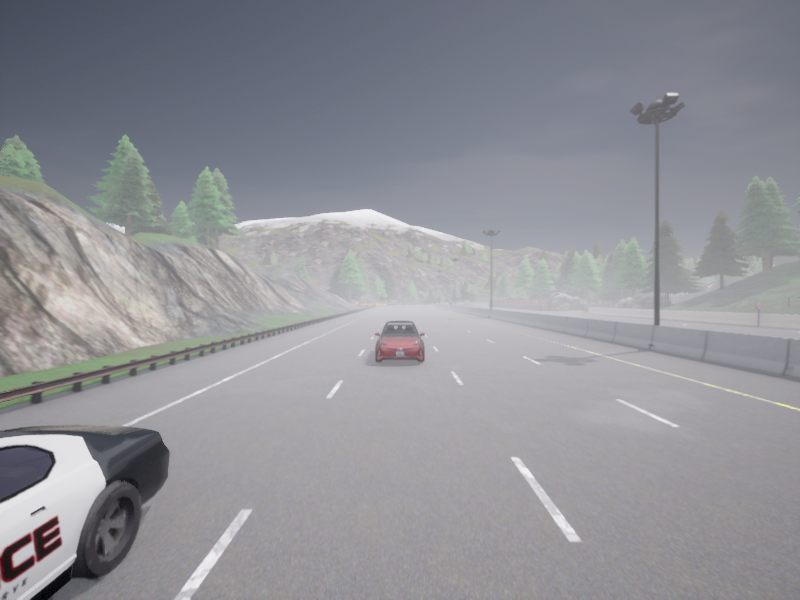vehicle: (0, 425, 169, 599), (374, 321, 424, 362), (464, 300, 470, 304), (467, 302, 472, 305), (449, 302, 453, 304), (459, 303, 462, 305)
